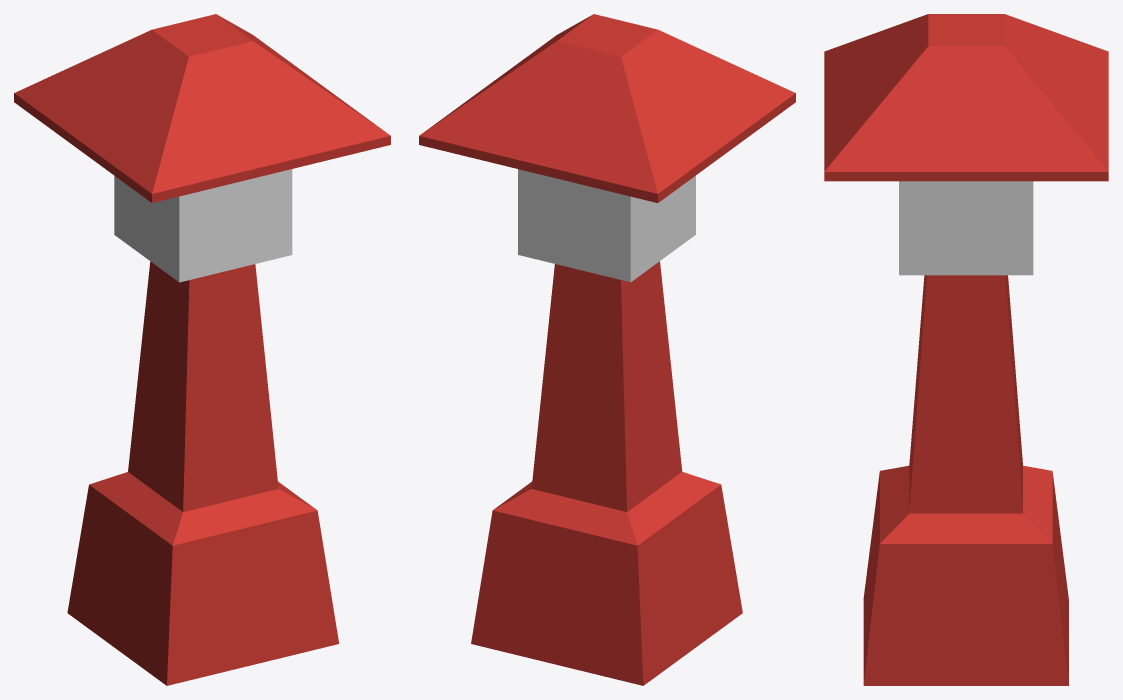
Rendered from Lantern.fbx.
3 renders of one model, left to right at view 1: azimuth 30°, elevation 25°; view 2: azimuth 150°, elevation 25°; view 3: azimuth 270°, elevation 25°, orthographic. The views are drawn at different scales.
Parts seen in each view (by area): view 1: Lantern; view 2: Lantern; view 3: Lantern.
Part boxes in pixels (x1=…): Lantern: x1=14, y1=14, x2=390, y2=685; Lantern: x1=419, y1=14, x2=795, y2=685; Lantern: x1=824, y1=14, x2=1108, y2=685.
Bounding box in the file's own units: 586 × 1391 × 586.
